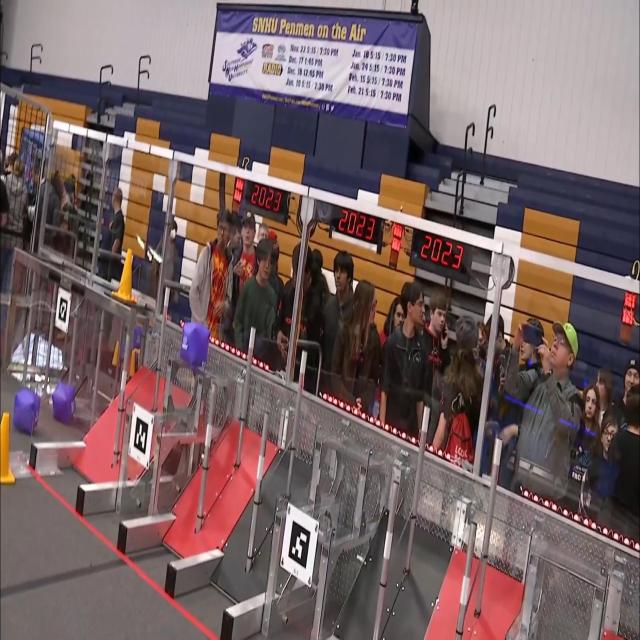frc_cone: (112, 248, 137, 305), (0, 411, 16, 486), (110, 339, 120, 368), (128, 352, 138, 374)
frc_cube: (180, 320, 211, 370), (14, 388, 40, 435), (52, 380, 76, 427), (131, 320, 143, 350)
